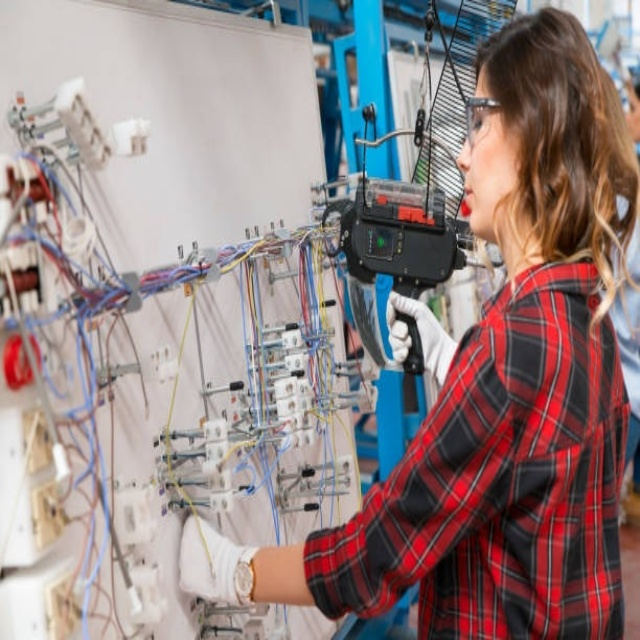Gafas: (462, 93, 501, 143)
Guantes: (176, 512, 254, 608), (388, 289, 461, 390)
Sin_mascara: (461, 169, 492, 231)
